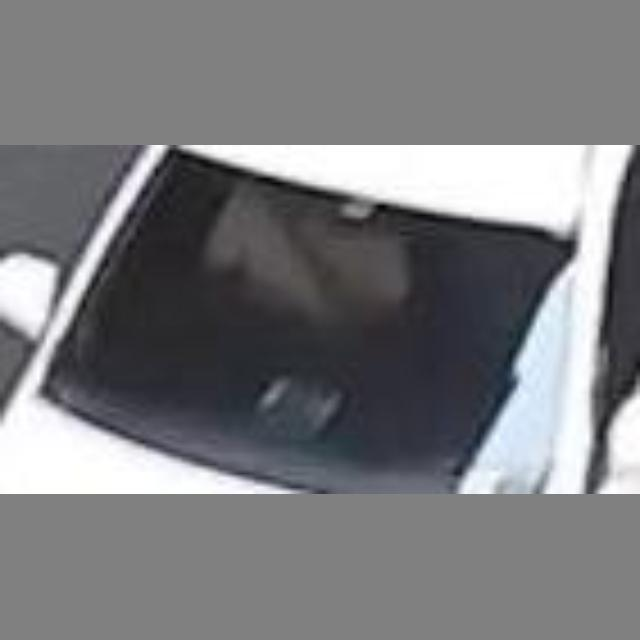pakai: (195, 181, 427, 358)
